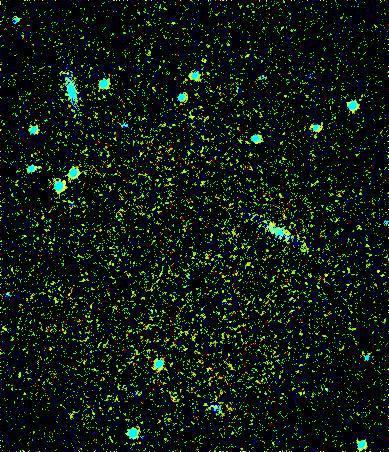star: (347, 339, 377, 369)
